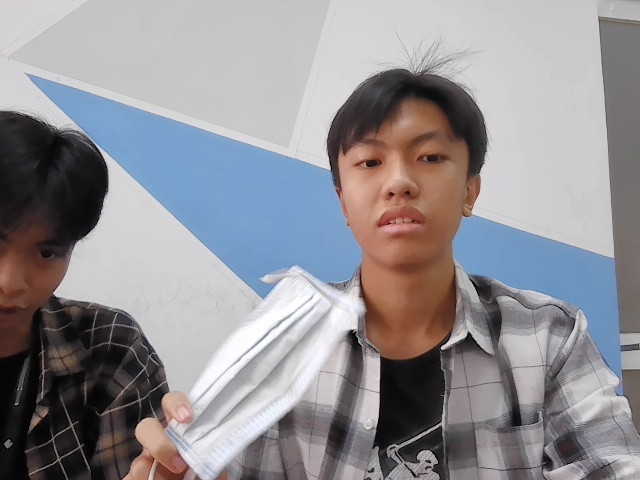human: (330, 70, 481, 263)
mask: (166, 256, 361, 466)
